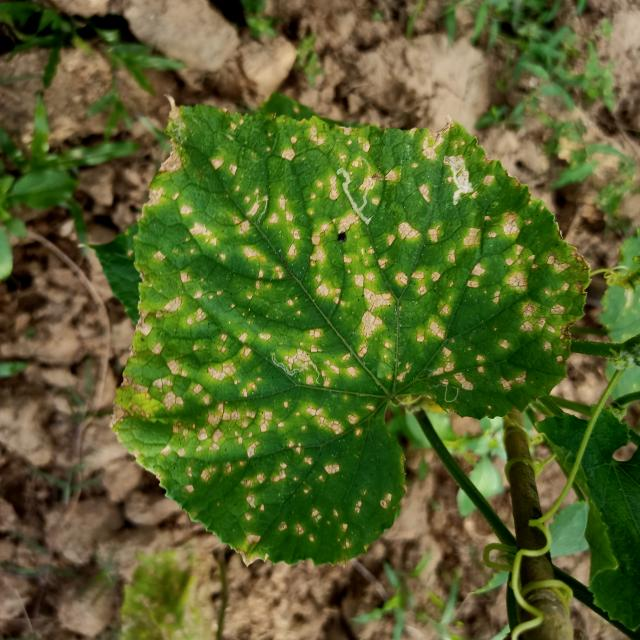disease_cucumber: (127, 110, 572, 549)
